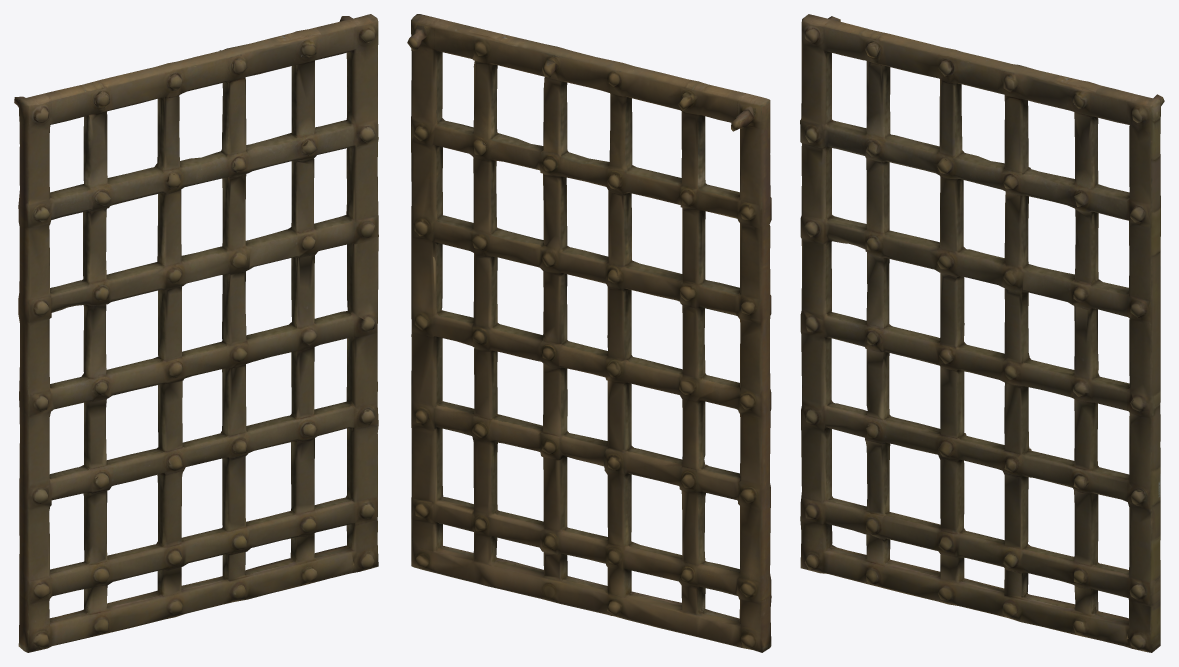
The model's file is Iron_Grid_Panel_0725004139_texture.fbx.
3 views of the same model, side by side, from view 1: azimuth 30°, elevation 25°; view 2: azimuth 150°, elevation 25°; view 3: azimuth 330°, elevation 25° (orthographic).
Parts seen in each view (by area): view 1: input; view 2: input; view 3: input.
Boxes of the visible parts, bbox=[...] form: input: bbox=[14, 14, 378, 652]; input: bbox=[407, 14, 771, 652]; input: bbox=[800, 14, 1164, 652].
Bounding box in the file's own units: 135 × 200 × 18.64.
1 material, 1 textured.
